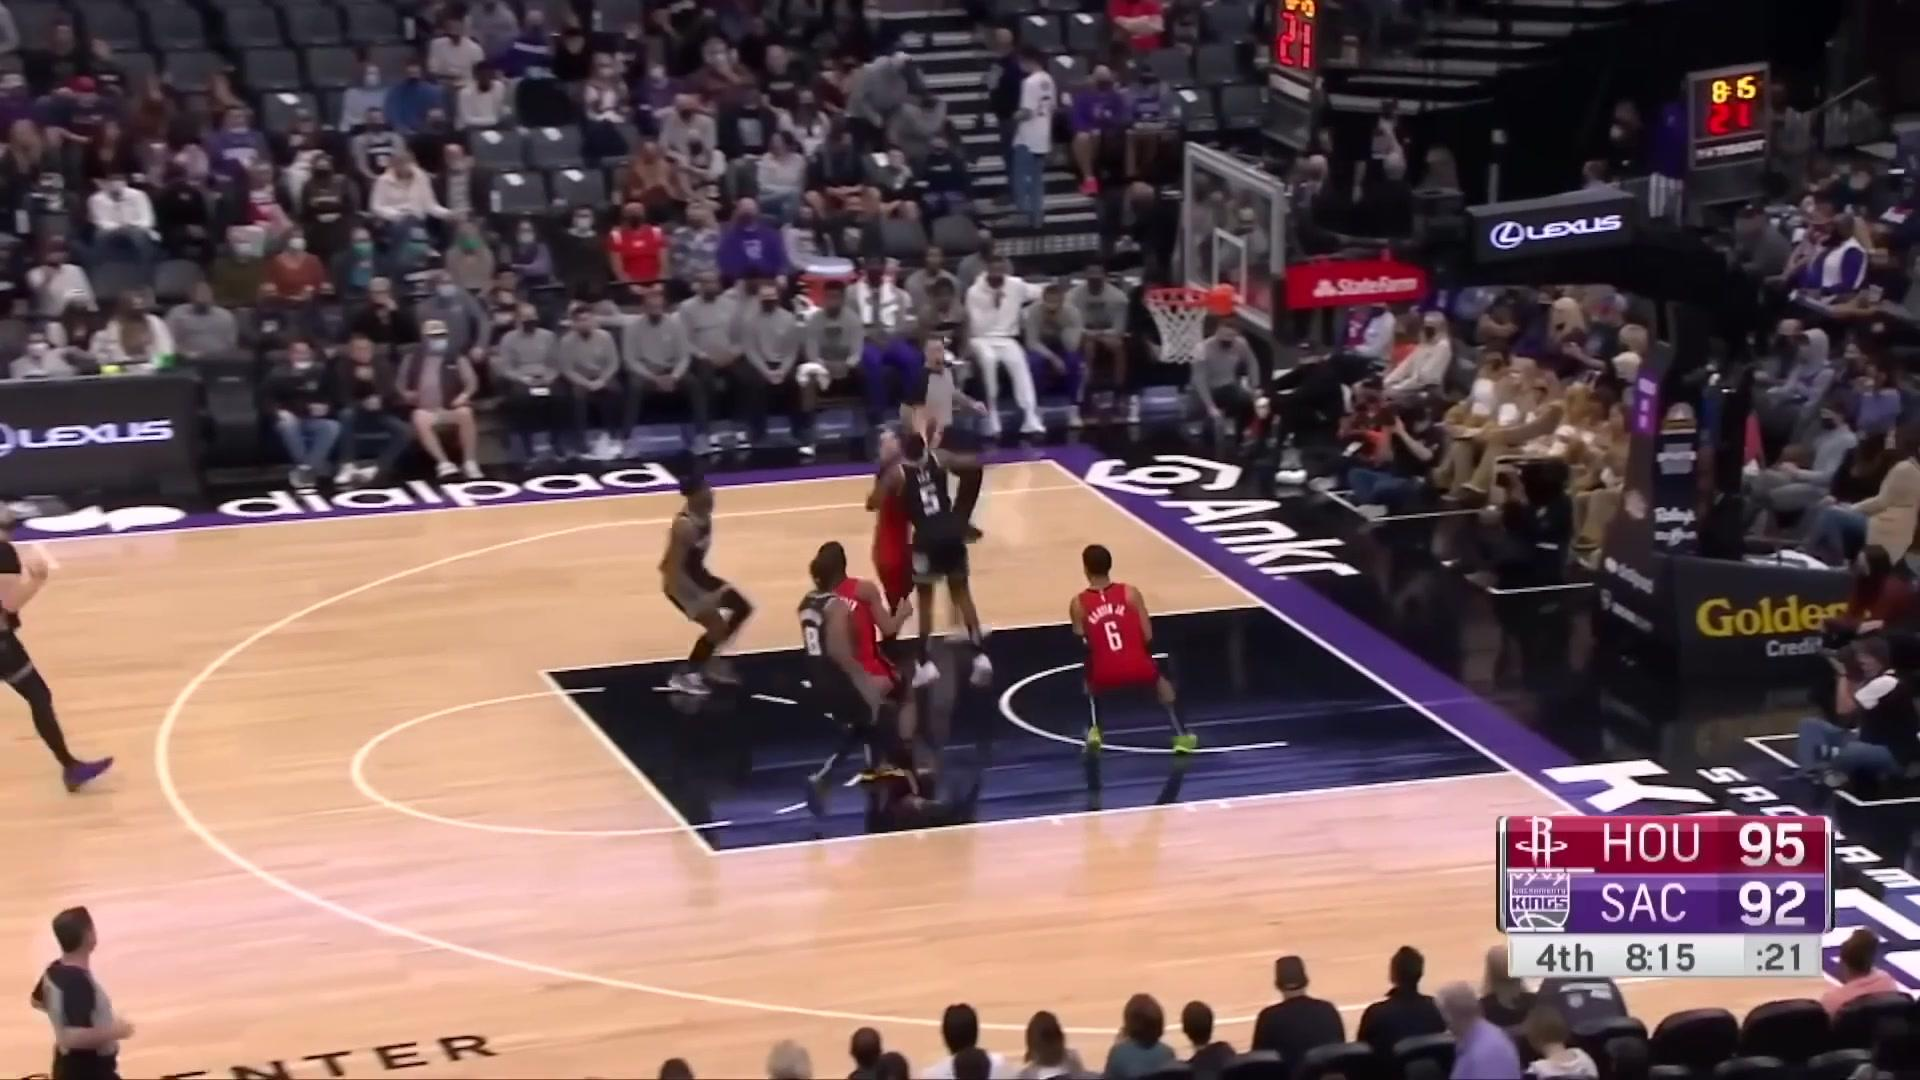foul: (852, 401, 993, 671)
